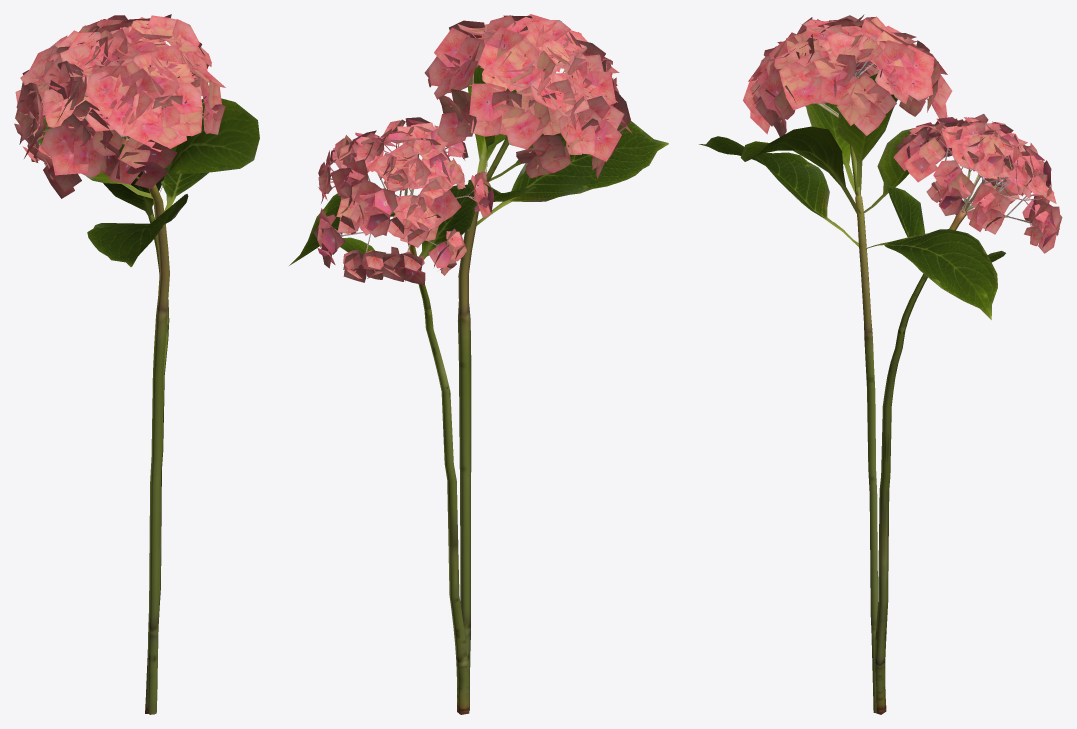
Rendered from Hydrangea_bush_normal_red.glb.
3 renders of one model, left to right at view 1: azimuth 30°, elevation 25°; view 2: azimuth 150°, elevation 25°; view 3: azimuth 270°, elevation 25°, orthographic. The views are drawn at different scales.
Parts seen in each view (by area): view 1: BUSHEKK; view 2: BUSHEKK; view 3: BUSHEKK.
Part boxes in pixels (x1,y1,x2,y2): BUSHEKK: (14,14,259,714); BUSHEKK: (289,14,668,714); BUSHEKK: (699,14,1062,714).
Size of the model in its own units: 1.48 by 3.79 by 1.87.
Materials: 1 (1 with a texture image).
